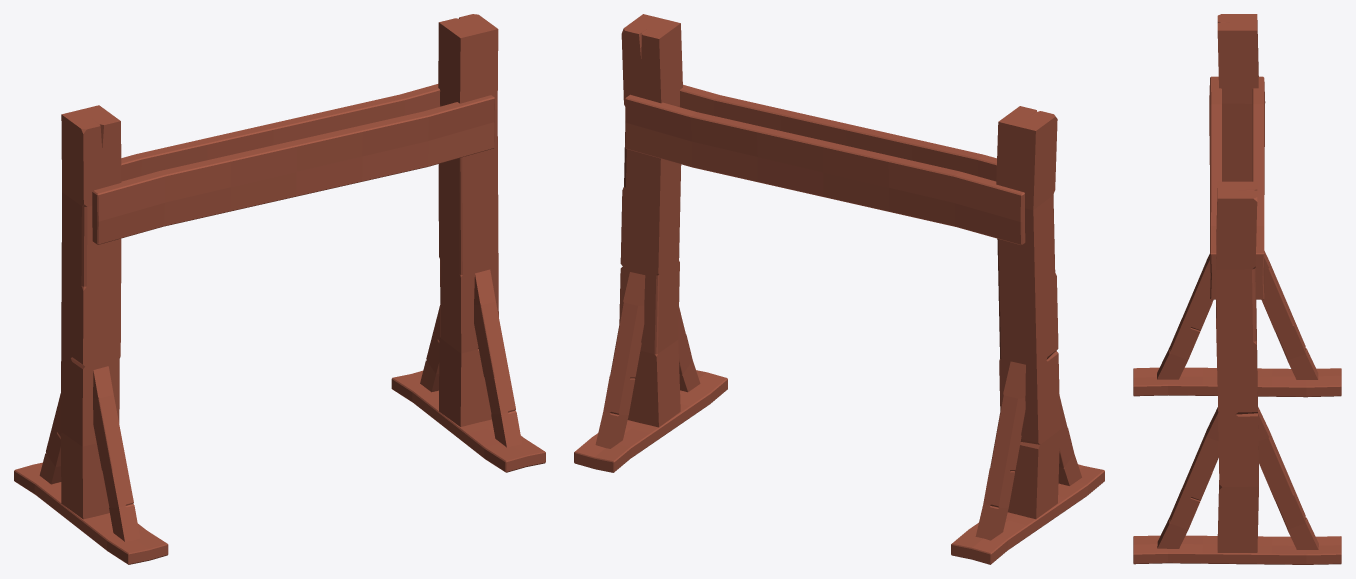
The model's file is weapon rack.fbx.
The picture shows the model from 3 angles, left to right: view 1: azimuth 30°, elevation 25°; view 2: azimuth 150°, elevation 25°; view 3: azimuth 270°, elevation 25°; orthographic projection. The views are drawn at different scales.
Parts seen in each view (by area): view 1: Weapon rack; view 2: Weapon rack; view 3: Weapon rack.
Boxes of the visible parts, x1,y1,x2,y2 form: Weapon rack: (14, 14, 545, 564); Weapon rack: (574, 14, 1104, 564); Weapon rack: (1133, 14, 1341, 564).
Bounding box in the file's own units: 112 × 102 × 52.51.
